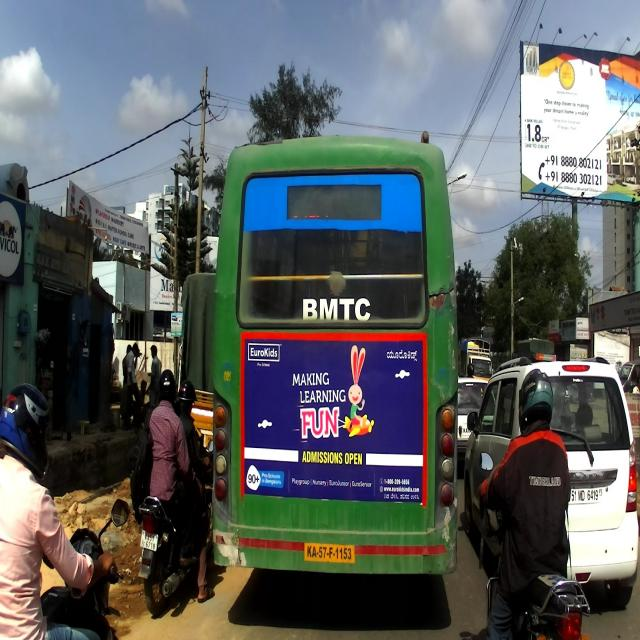Car_Maruti-Suzuki: (461, 352, 639, 606)
bus: (205, 129, 458, 576)
motorcycle_Hero: (475, 450, 591, 639), (138, 431, 215, 616)
motorcycle_Honda: (0, 495, 129, 639)
